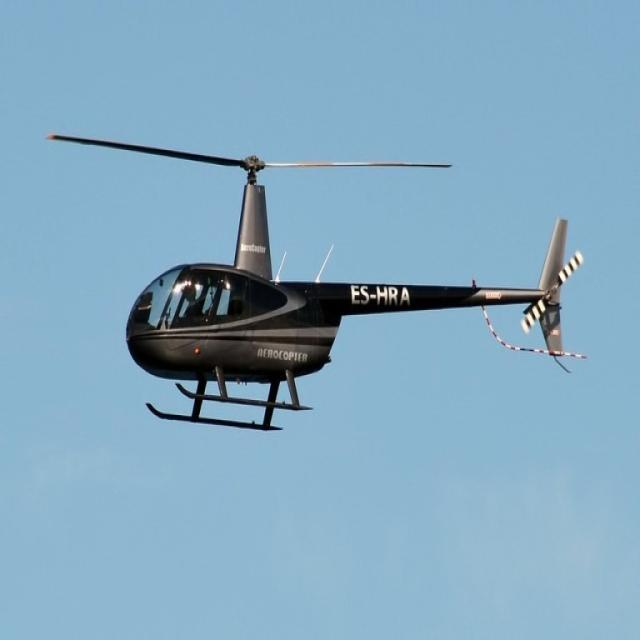CIV_HELO: (124, 155, 574, 434)
